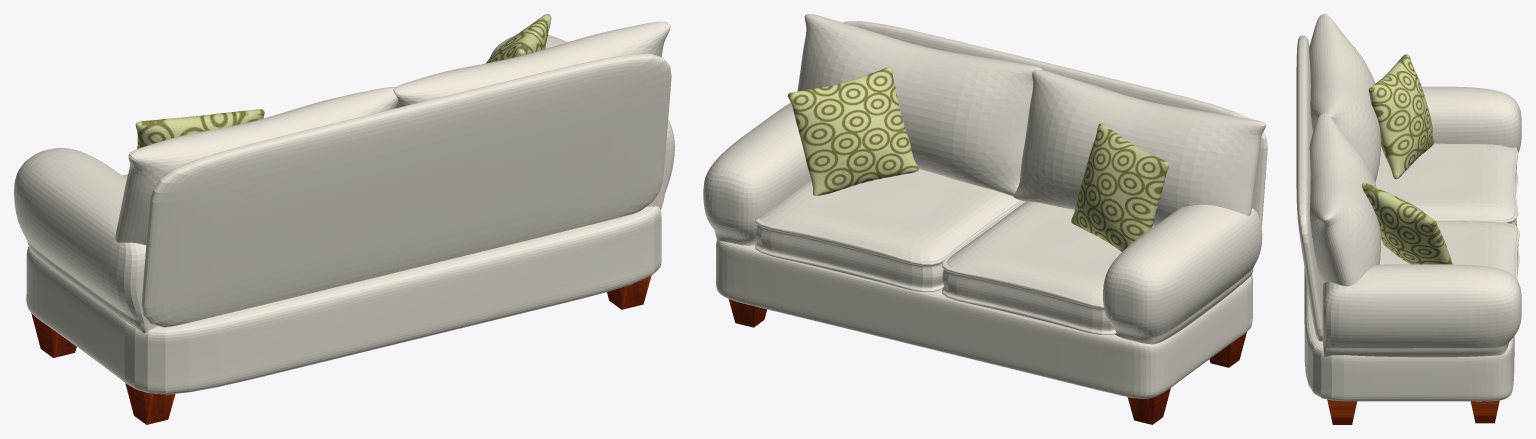
The model's file is sweethome3d-contributions-couch.glb.
3 renders of one model, left to right at view 1: azimuth 30°, elevation 25°; view 2: azimuth 150°, elevation 25°; view 3: azimuth 270°, elevation 25°, orthographic. The views are drawn at different scales.
Visible parts, largest first — view 1: PolyMesh_1_1, PolyMesh_2, PolyMesh_3, PolyMesh_1_4, PolyMesh_1, PolyMesh_1_2, PolyMesh_1_3, PolyMesh_5_3, PolyMesh_3_1, PolyMesh_5_2, PolyMesh_5; view 2: PolyMesh_2, PolyMesh_1, PolyMesh_1_4, PolyMesh_4_1, PolyMesh_4, PolyMesh_3, PolyMesh_1_3, PolyMesh_3_1, PolyMesh_1_2, PolyMesh_1_1, PolyMesh_5_2, PolyMesh_5_1 (+1 smaller); view 3: PolyMesh_3_1, PolyMesh_2, PolyMesh_1, PolyMesh_4, PolyMesh_1_4, PolyMesh_3, PolyMesh_1_2, PolyMesh_1_1, PolyMesh_1_3, PolyMesh_4_1, PolyMesh_5, PolyMesh_5_1.
Part boxes in pixels (left/top/right/bottom): PolyMesh_1_1: left=141, top=53, right=671, bottom=327; PolyMesh_2: left=26, top=206, right=661, bottom=394; PolyMesh_3: left=14, top=148, right=157, bottom=332; PolyMesh_1_4: left=115, top=87, right=398, bottom=245; PolyMesh_1: left=393, top=21, right=670, bottom=107; PolyMesh_1_2: left=135, top=109, right=264, bottom=148; PolyMesh_1_3: left=485, top=14, right=551, bottom=63; PolyMesh_5_3: left=125, top=383, right=175, bottom=424; PolyMesh_3_1: left=490, top=34, right=674, bottom=209; PolyMesh_5_2: left=31, top=313, right=76, bottom=357; PolyMesh_5: left=607, top=276, right=651, bottom=309; PolyMesh_2: left=716, top=240, right=1252, bottom=398; PolyMesh_1: left=797, top=14, right=1042, bottom=196; PolyMesh_1_4: left=1013, top=70, right=1266, bottom=226; PolyMesh_4_1: left=755, top=169, right=1023, bottom=291; PolyMesh_4: left=942, top=201, right=1153, bottom=334; PolyMesh_3: left=1103, top=204, right=1262, bottom=344; PolyMesh_1_3: left=788, top=67, right=918, bottom=195; PolyMesh_3_1: left=703, top=102, right=811, bottom=245; PolyMesh_1_2: left=1071, top=123, right=1169, bottom=251; PolyMesh_1_1: left=843, top=21, right=1267, bottom=228; PolyMesh_5_2: left=1127, top=388, right=1170, bottom=424; PolyMesh_5_1: left=728, top=299, right=766, bottom=327; PolyMesh_3_1: left=1322, top=264, right=1521, bottom=357; PolyMesh_2: left=1304, top=268, right=1514, bottom=401; PolyMesh_1: left=1309, top=113, right=1380, bottom=286; PolyMesh_4: left=1375, top=143, right=1518, bottom=226; PolyMesh_1_4: left=1309, top=14, right=1380, bottom=182; PolyMesh_3: left=1422, top=86, right=1521, bottom=152; PolyMesh_1_2: left=1368, top=54, right=1434, bottom=179; PolyMesh_1_1: left=1296, top=35, right=1323, bottom=341; PolyMesh_1_3: left=1362, top=182, right=1452, bottom=264; PolyMesh_4_1: left=1379, top=221, right=1519, bottom=280; PolyMesh_5: left=1327, top=399, right=1357, bottom=424; PolyMesh_5_1: left=1470, top=400, right=1499, bottom=423.
Bounding box in the file's own units: 5.24 × 2.52 × 2.37.
3 materials, 2 textured.
